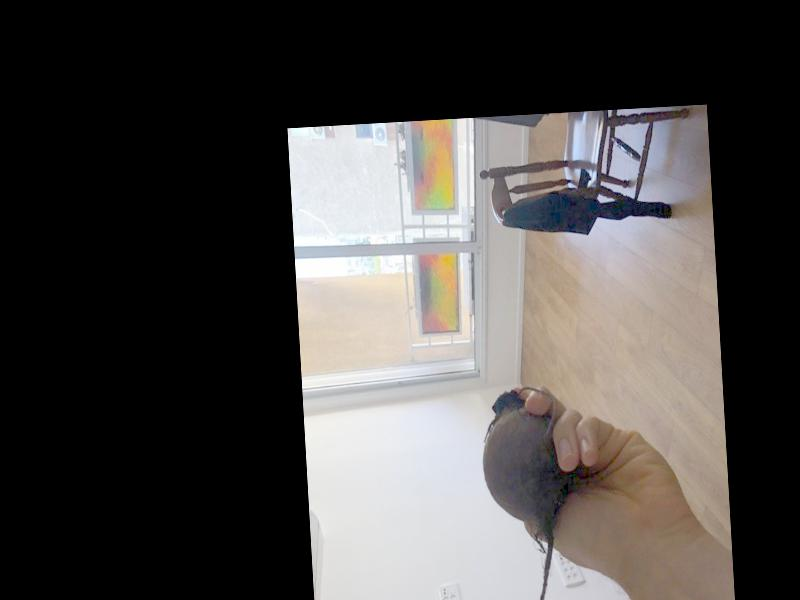Beet: (479, 383, 571, 600)
